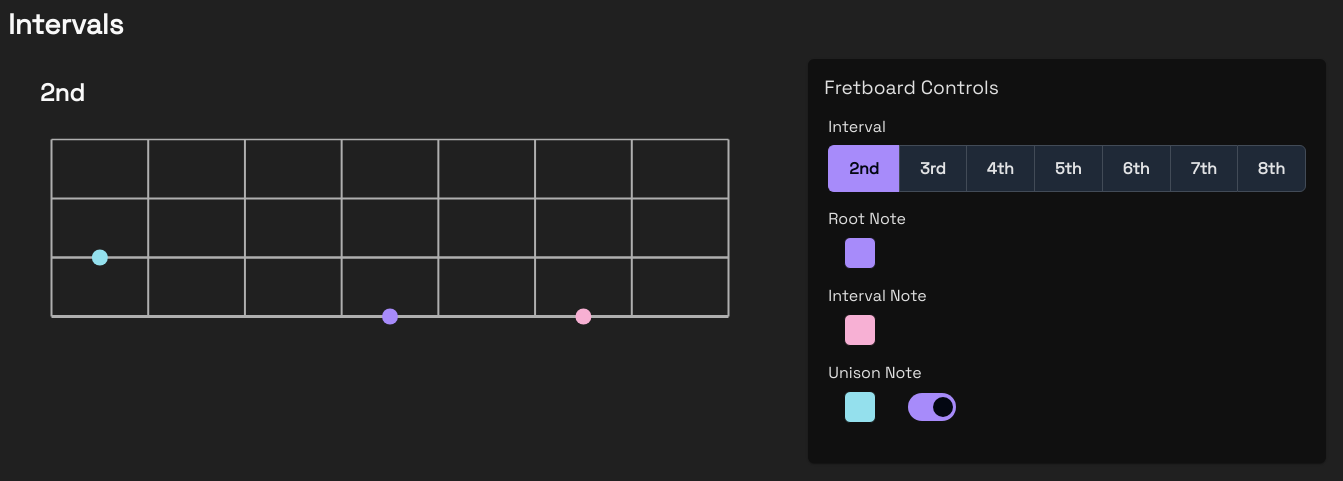
Test: Intervals › interval selection › updates the subtitle when 3rd is selected
Click the button "3rd".
click(932, 168)  # box [899,145,966,192]
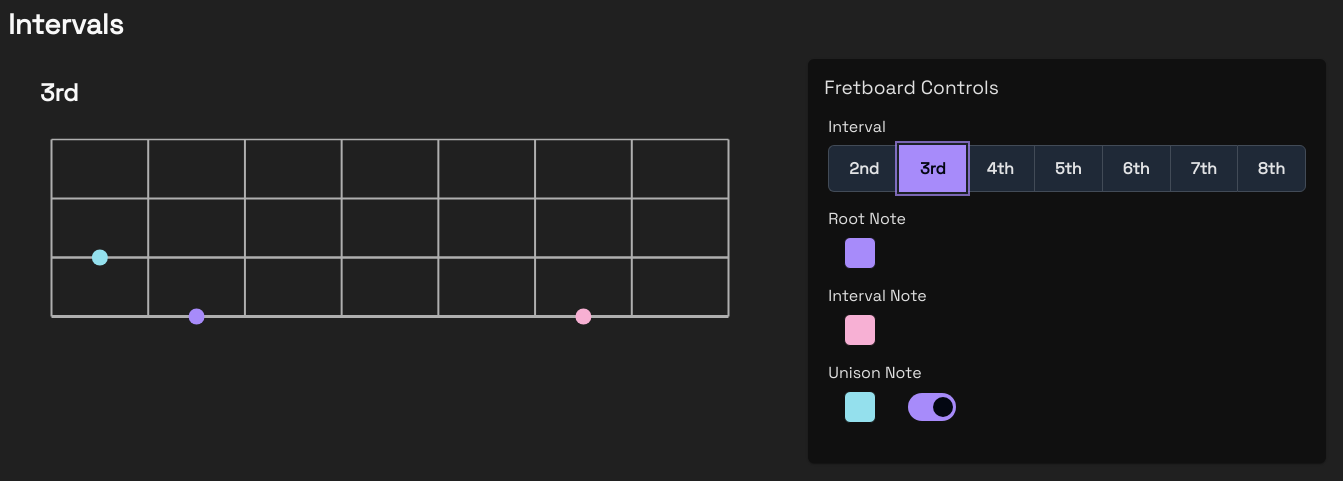
Now the heading "3rd" is shown, box [40,77,79,108]
